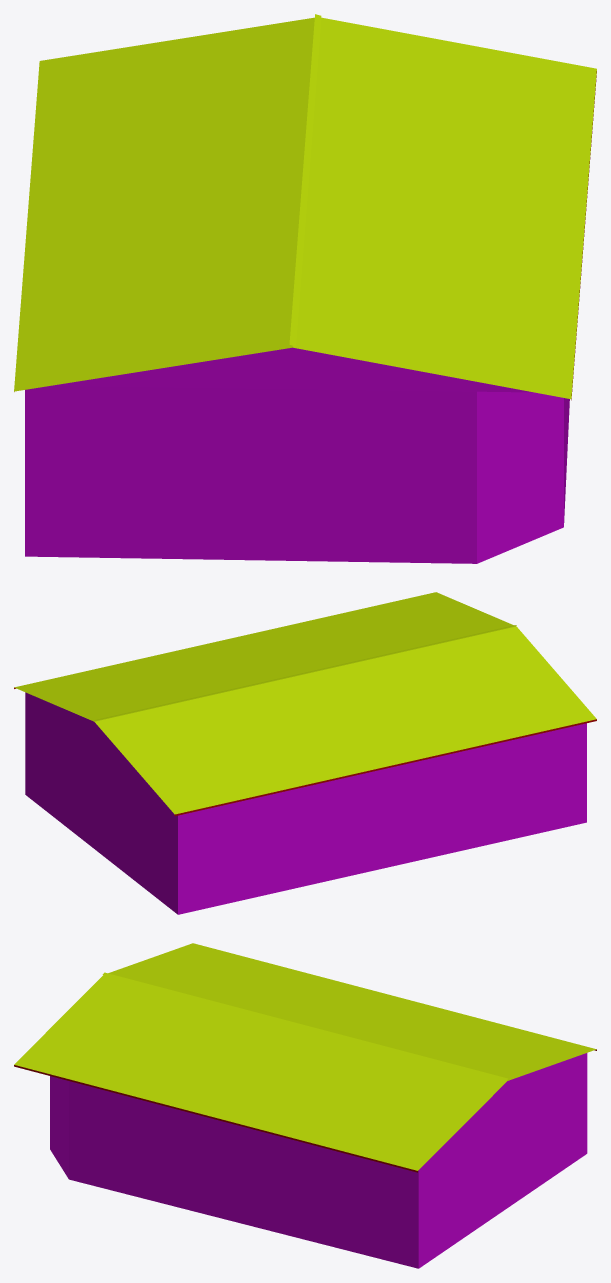
Rendered from bgj_114.glb.
3 renders of one model, top to bottom at view 1: azimuth 30°, elevation 25°; view 2: azimuth 150°, elevation 25°; view 3: azimuth 270°, elevation 25°, orthographic. The views are drawn at different scales.
Parts seen in each view (by area): view 1: bgj_114; view 2: bgj_114; view 3: bgj_114.
Part boxes in pixels (box(x1,y1,x2,y2)): bgj_114: box(14, 14, 596, 563); bgj_114: box(14, 592, 596, 914); bgj_114: box(14, 943, 596, 1268).
Size of the model in its own units: 33.21 by 9.14 by 35.92.
